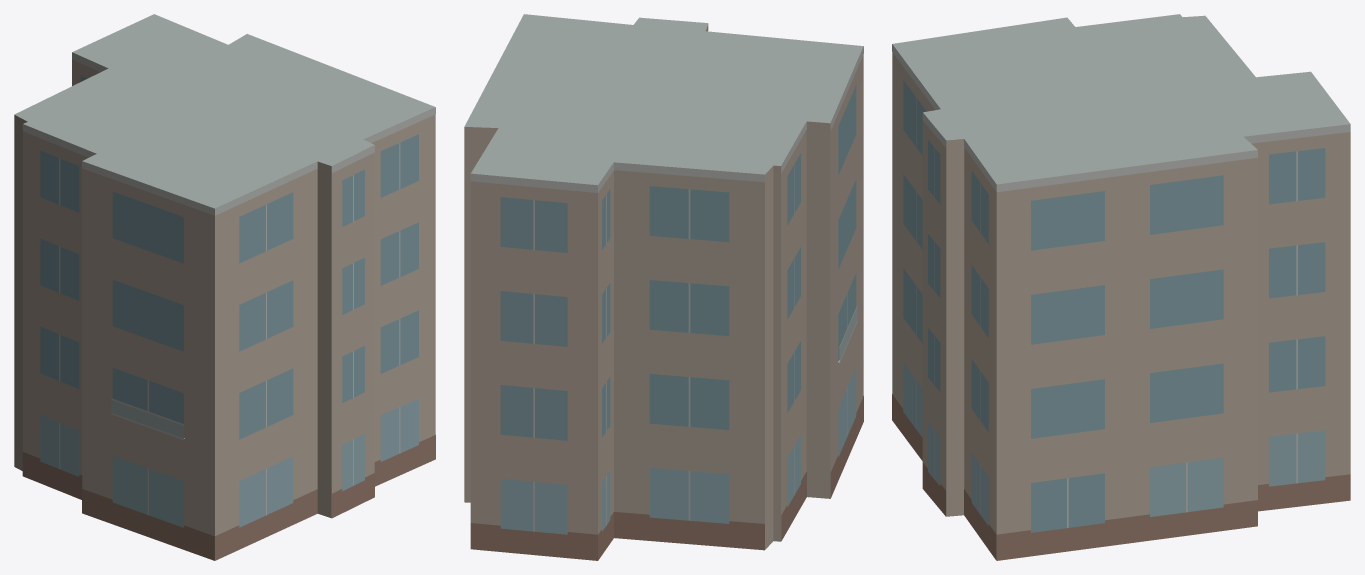
The model's file is survey-upis-32534022.glb.
The picture shows the model from 3 angles, left to right: view 1: azimuth 30°, elevation 25°; view 2: azimuth 150°, elevation 25°; view 3: azimuth 270°, elevation 25°; orthographic projection. The views are drawn at different scales.
Visible parts, largest first — view 1: survey-upis-32534022.tmp; view 2: survey-upis-32534022.tmp; view 3: survey-upis-32534022.tmp.
Boxes of the visible parts, x1,y1,x2,y2 form: survey-upis-32534022.tmp: [14, 14, 435, 560]; survey-upis-32534022.tmp: [464, 14, 863, 560]; survey-upis-32534022.tmp: [892, 14, 1350, 560].
Size of the model in its own units: 11.49 by 11.82 by 13.06.
